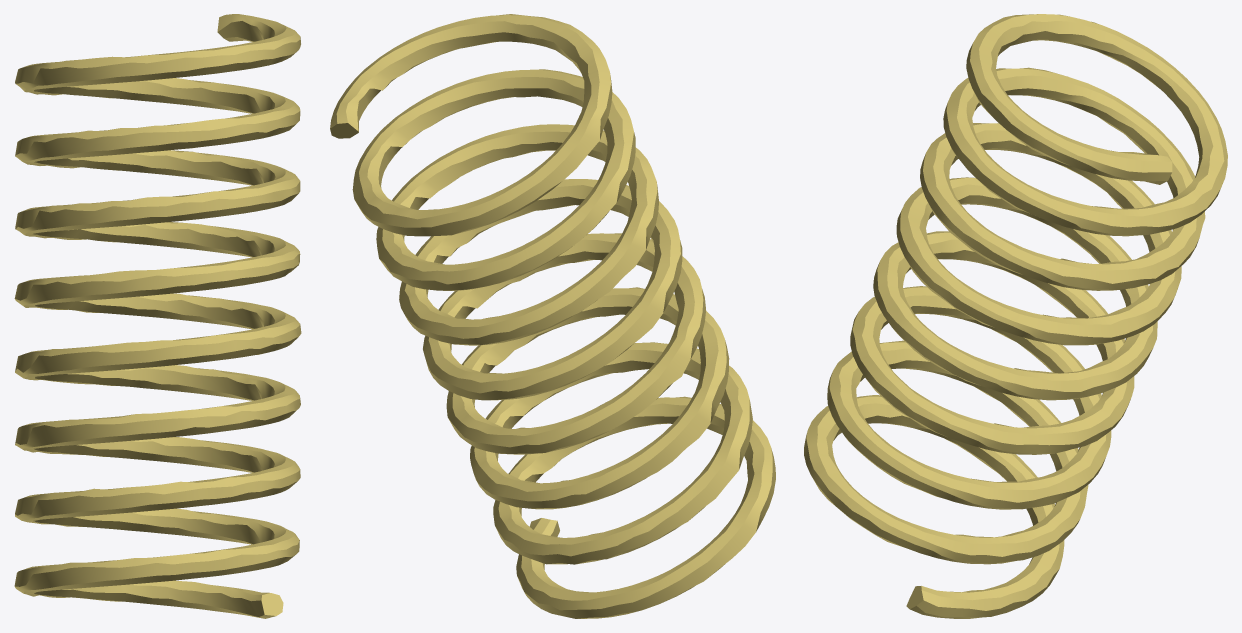
Rendered from mega_jump.fbx.
3 views of the same model, side by side, from view 1: azimuth 30°, elevation 25°; view 2: azimuth 150°, elevation 25°; view 3: azimuth 270°, elevation 25° (orthographic).
Parts seen in each view (by area): view 1: pHelix1; view 2: pHelix1; view 3: pHelix1.
Part boxes in pixels (x1,y1,x2,y2): pHelix1: (14, 14, 301, 618); pHelix1: (330, 14, 775, 618); pHelix1: (804, 14, 1227, 618).
Bounding box in the file's own units: 1375 × 2244 × 1520.
